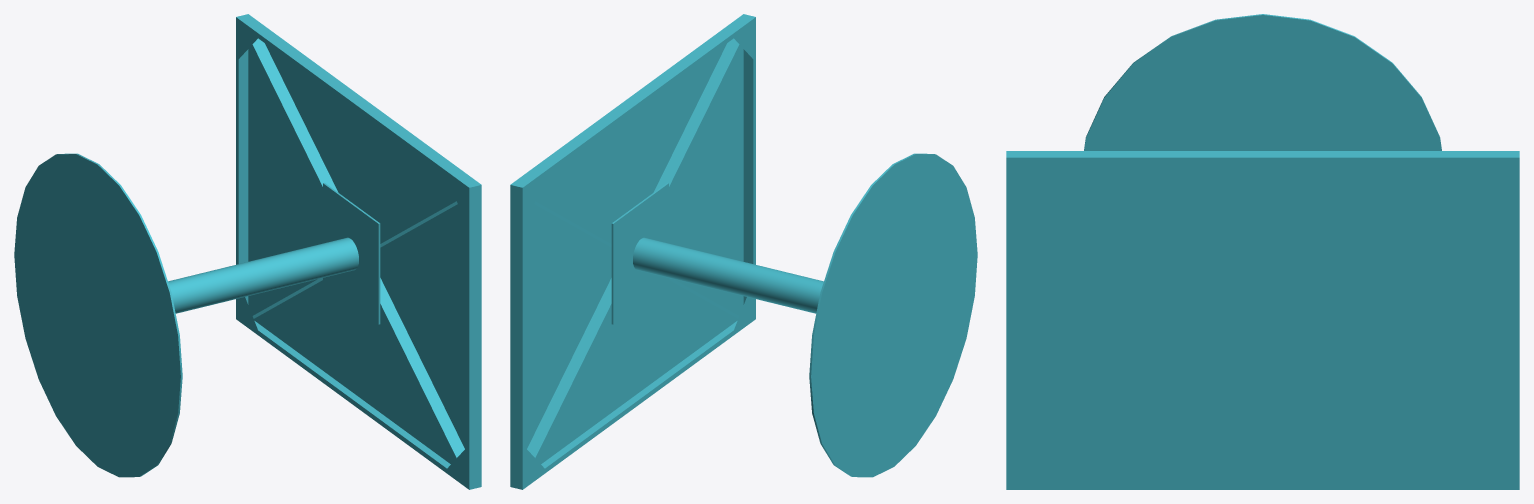
The picture shows the model from 3 angles, left to right: view 1: azimuth 30°, elevation 25°; view 2: azimuth 150°, elevation 25°; view 3: azimuth 270°, elevation 25°; orthographic projection. The views are drawn at different scales.
Parts seen in each view (by area): view 1: Renderer Node; view 2: Renderer Node; view 3: Renderer Node.
Part boxes in pixels (left/top/right/bottom): Renderer Node: left=14, top=14, right=481, bottom=489; Renderer Node: left=510, top=14, right=977, bottom=489; Renderer Node: left=1006, top=14, right=1519, bottom=489.
Size of the model in its own units: 0.4741 by 0.5118 by 0.7165.
Materials: 1 (1 with a texture image).
